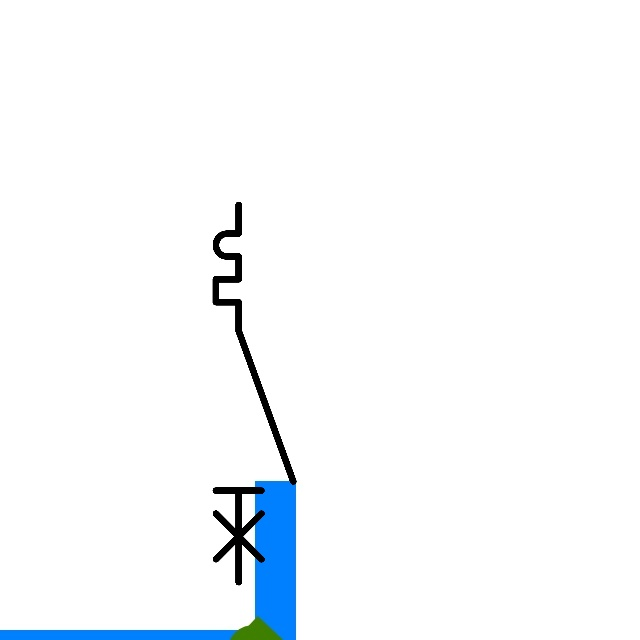interruptor_termomagnetico: (206, 195, 303, 592)
